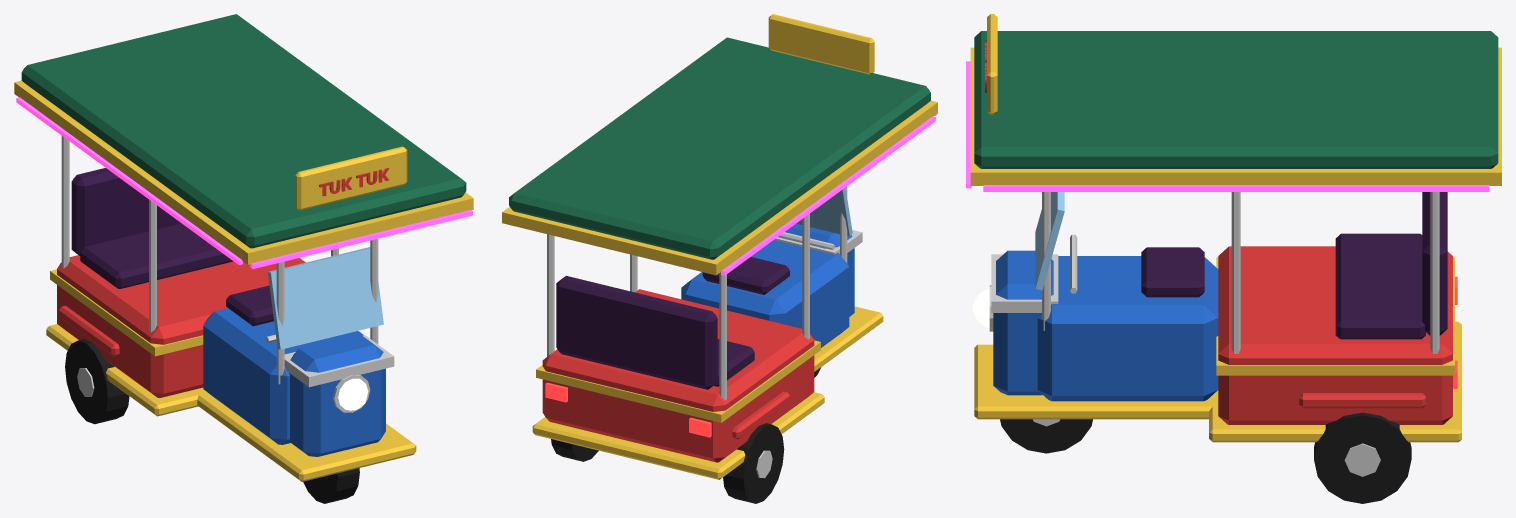
Rendered from tuk_tuk.glb.
The picture shows the model from 3 angles, left to right: view 1: azimuth 30°, elevation 25°; view 2: azimuth 150°, elevation 25°; view 3: azimuth 270°, elevation 25°; orthographic projection. The views are drawn at different scales.
Visible parts, largest first — view 1: tuk_tuk; view 2: tuk_tuk; view 3: tuk_tuk.
Part boxes in pixels (x1,y1,x2,y2): tuk_tuk: [14, 14, 473, 503]; tuk_tuk: [502, 14, 937, 503]; tuk_tuk: [966, 14, 1501, 503].
Size of the model in its own units: 1.69 by 2.47 by 2.96.
